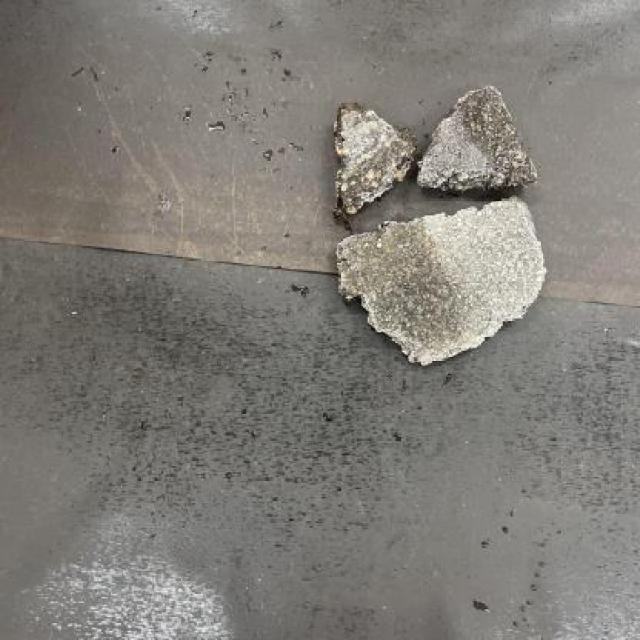Road Debris: (340, 222, 460, 362), (456, 86, 538, 192), (340, 133, 414, 214)
